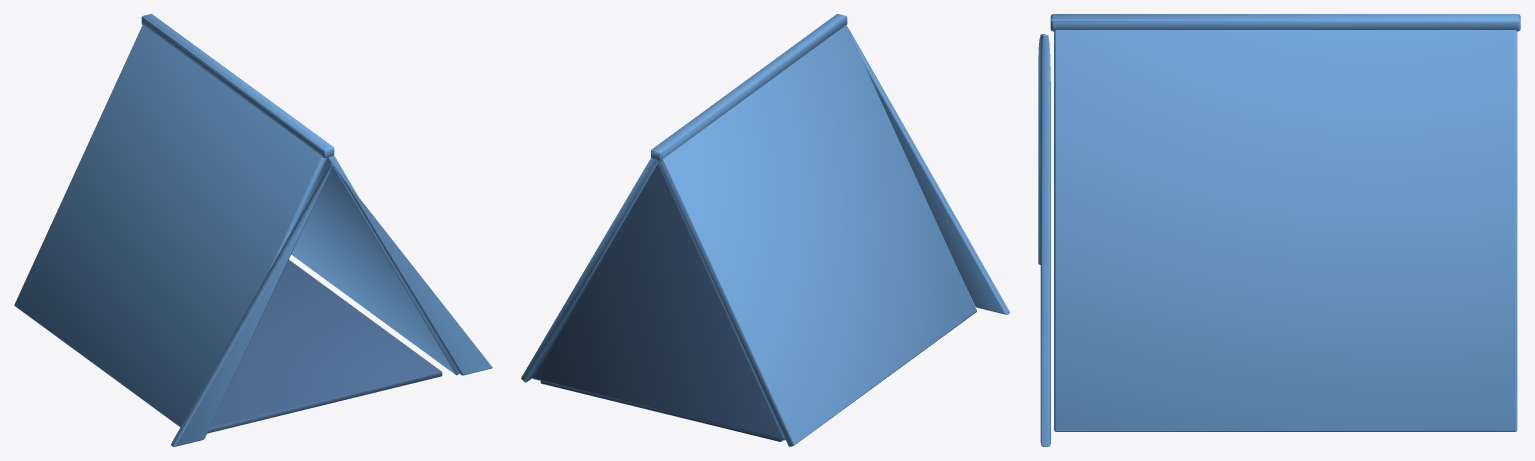
File: cadir-mavi.glb
3 views of the same model, side by side, from view 1: azimuth 30°, elevation 25°; view 2: azimuth 150°, elevation 25°; view 3: azimuth 270°, elevation 25° (orthographic). The views are drawn at different scales.
Parts seen in each view (by area): view 1: 67P_CADIR_MAVI_01_BODY, 67P_CADIR_MAVI_01_INTERIOR; view 2: 67P_CADIR_MAVI_01_BODY, 67P_CADIR_MAVI_01_INTERIOR; view 3: 67P_CADIR_MAVI_01_BODY.
Boxes of the visible parts, x1,y1,x2,y2 form: 67P_CADIR_MAVI_01_BODY: [14, 14, 492, 446]; 67P_CADIR_MAVI_01_INTERIOR: [207, 260, 442, 433]; 67P_CADIR_MAVI_01_BODY: [521, 14, 1009, 446]; 67P_CADIR_MAVI_01_INTERIOR: [532, 163, 785, 441]; 67P_CADIR_MAVI_01_BODY: [1038, 14, 1520, 446].
Size of the model in its own units: 3.29 by 2.55 by 3.34.
